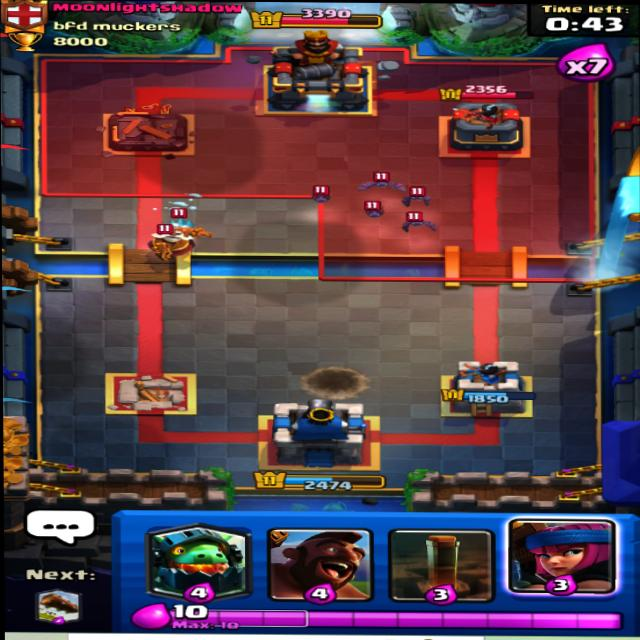Bat: (348, 198, 393, 221), (307, 184, 348, 209), (396, 213, 442, 235), (362, 170, 399, 192), (397, 184, 431, 206)
Monk: (139, 220, 219, 263)
